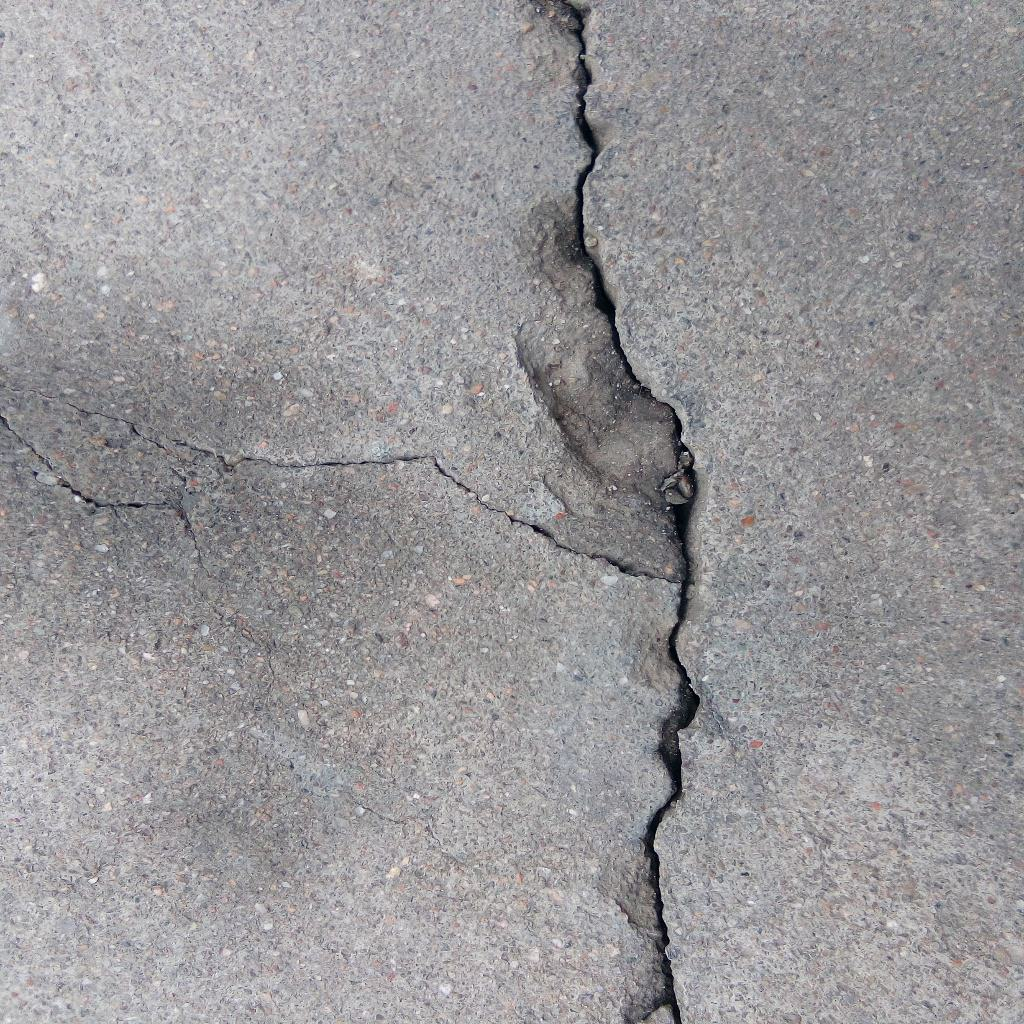Crack: (528, 1, 703, 1024), (3, 387, 686, 586), (1, 412, 173, 510)
